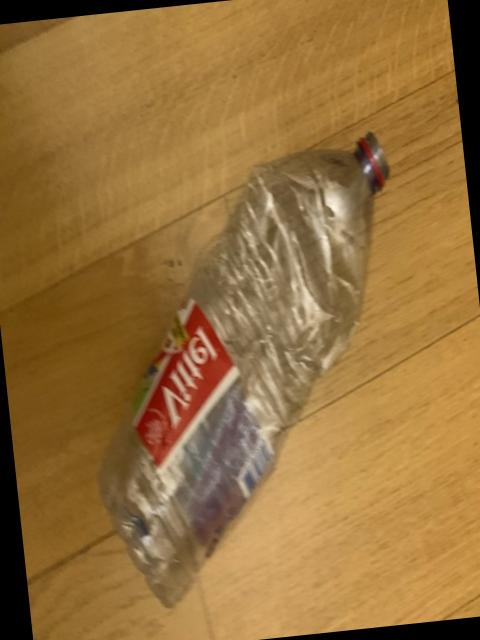plastic: (97, 136, 386, 608)
